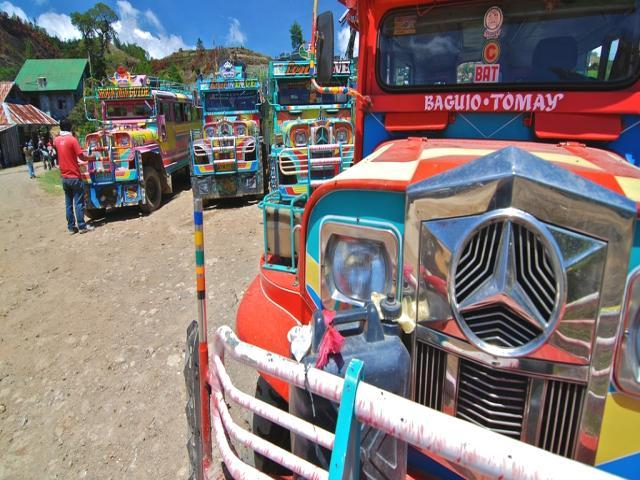jeepney: (184, 0, 640, 480), (274, 43, 372, 222), (86, 70, 193, 218), (189, 40, 274, 220)
